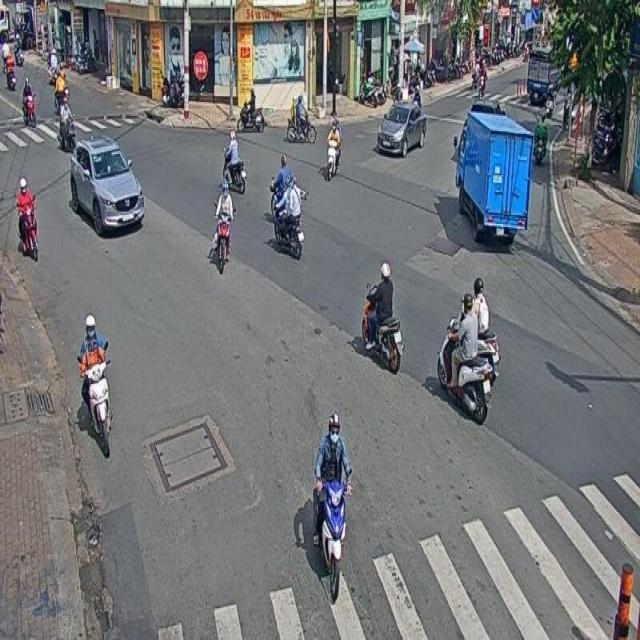car: (70, 134, 144, 235), (377, 102, 426, 157)
motorcycle: (436, 294, 490, 422), (314, 413, 348, 603), (361, 260, 402, 376), (77, 314, 110, 457), (274, 177, 304, 260), (214, 183, 235, 277), (16, 177, 38, 262), (286, 96, 317, 145), (224, 131, 246, 195), (326, 119, 341, 181)
truck: (455, 111, 532, 238)
